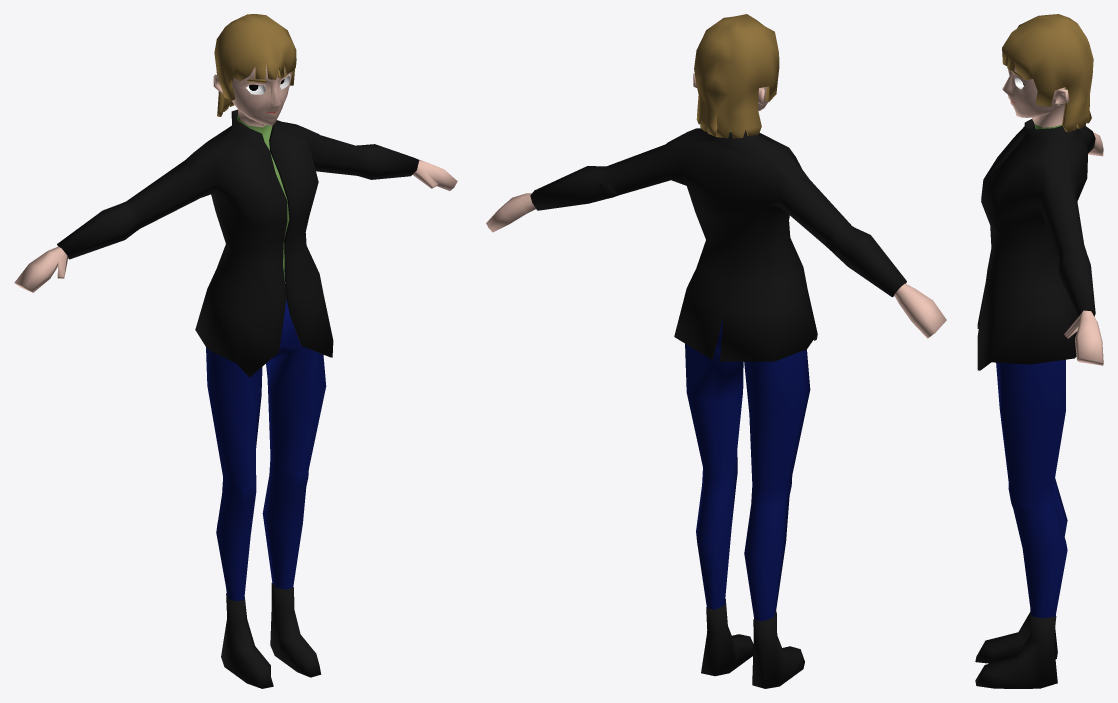
Rendered from lowpolewo.fbx.
3 renders of one model, left to right at view 1: azimuth 30°, elevation 25°; view 2: azimuth 150°, elevation 25°; view 3: azimuth 270°, elevation 25°, orthographic. The views are drawn at different scales.
Parts seen in each view (by area): view 1: Cube.003, Cube.004, Cube.005, Cube, Cube.001; view 2: Cube.003, Cube.004, Cube.001, Cube.005, Cube; view 3: Cube.003, Cube.004, Cube.001, Cube.005, Cube.
Part boxes in pixels (box(x1,y1,x2,y2)): Cube.003: box(57, 109, 419, 377); Cube.004: box(206, 299, 326, 601); Cube.005: box(221, 583, 321, 688); Cube: box(14, 64, 457, 292); Cube.001: box(214, 14, 296, 116); Cube.003: box(530, 128, 906, 361); Cube.004: box(685, 317, 810, 621); Cube.001: box(694, 14, 779, 138); Cube.005: box(701, 599, 804, 688); Cube: box(486, 73, 946, 338); Cube.003: box(977, 119, 1095, 370); Cube.004: box(996, 359, 1067, 618); Cube.001: box(1002, 14, 1093, 132); Cube.005: box(975, 609, 1057, 688); Cube: box(1002, 66, 1103, 365).
Bounding box in the file's own units: 178 × 251 × 44.68.
